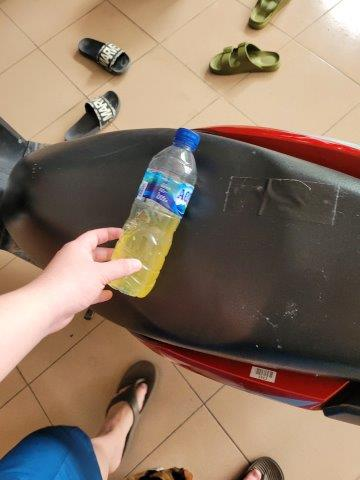botolplastik: (106, 127, 197, 301)
